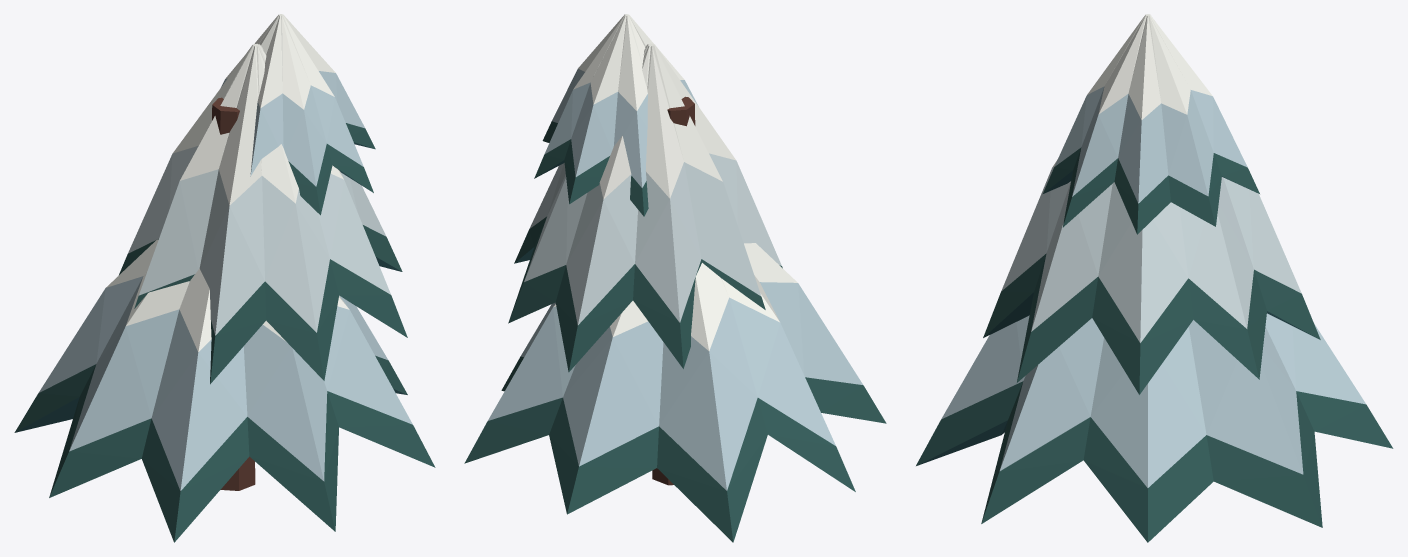
The model's file is SpruceYoung.fbx.
3 renders of one model, left to right at view 1: azimuth 30°, elevation 25°; view 2: azimuth 150°, elevation 25°; view 3: azimuth 270°, elevation 25°, orthographic. The views are drawn at different scales.
Visible parts, largest first — view 1: SpruceYoung; view 2: SpruceYoung; view 3: SpruceYoung.
Part boxes in pixels (bbox=[...]): SpruceYoung: bbox=[14, 14, 435, 542]; SpruceYoung: bbox=[464, 14, 886, 542]; SpruceYoung: bbox=[916, 14, 1393, 542].
Size of the model in its own units: 1.74 by 2.1 by 1.8.
Materials: 1 (1 with a texture image).
